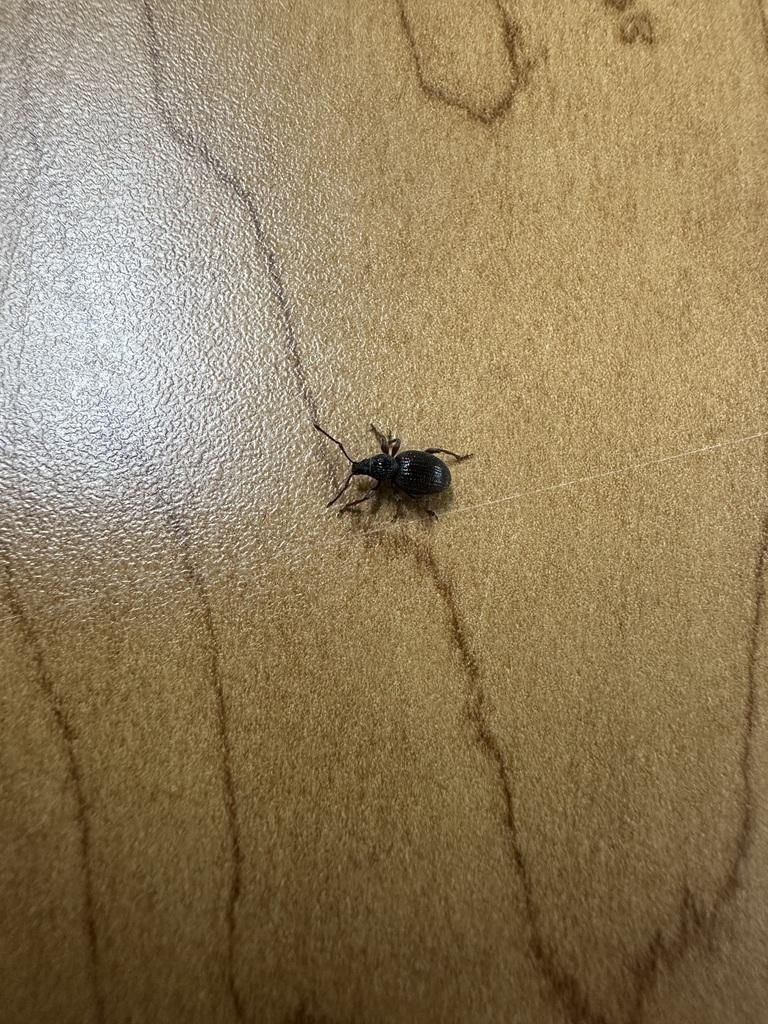weevils: (279, 390, 506, 550)
